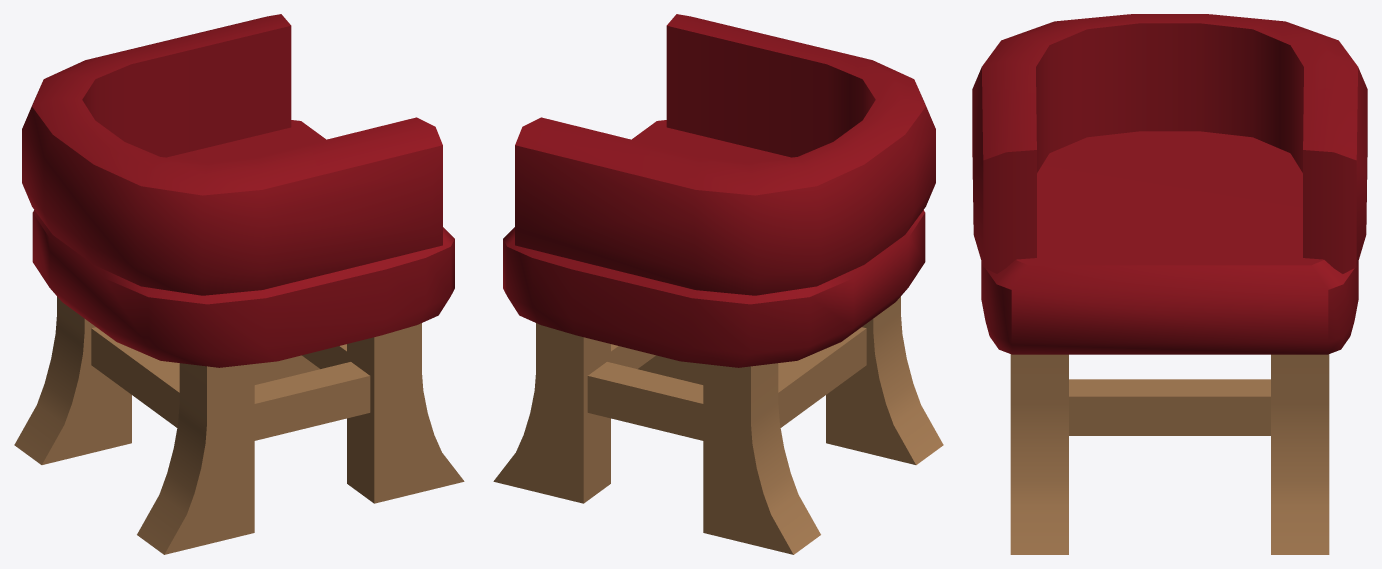
The model's file is quaternius-sushi-restaurant-environment-chair-2.glb.
The picture shows the model from 3 angles, left to right: view 1: azimuth 30°, elevation 25°; view 2: azimuth 150°, elevation 25°; view 3: azimuth 270°, elevation 25°; orthographic projection. The views are drawn at different scales.
Parts seen in each view (by area): view 1: Environment_Chair2; view 2: Environment_Chair2; view 3: Environment_Chair2.
Boxes of the visible parts, x1,y1,x2,y2 form: Environment_Chair2: (14, 14, 464, 554); Environment_Chair2: (493, 14, 943, 554); Environment_Chair2: (972, 14, 1367, 554).
Bounding box in the file's own units: 0.9825 × 1.05 × 0.977.
Materials: 1 (1 with a texture image).
